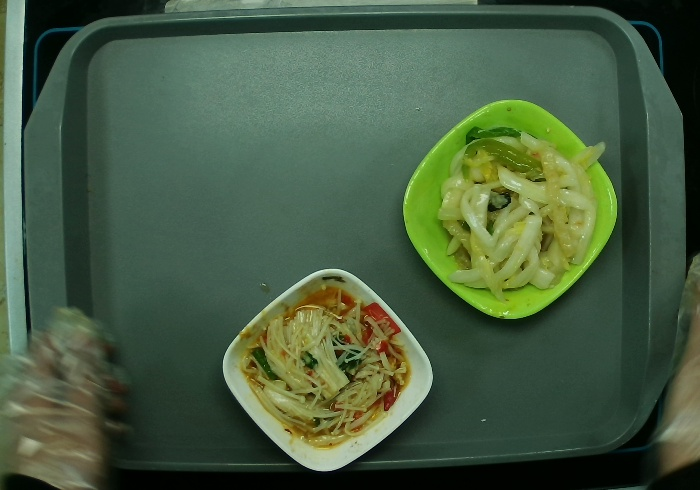SHKJ-Bai_Se_Xiao_Fang_Die: (221, 264, 434, 475)
SHKJ-Lv_Se_Cai_Die: (398, 95, 620, 325)
